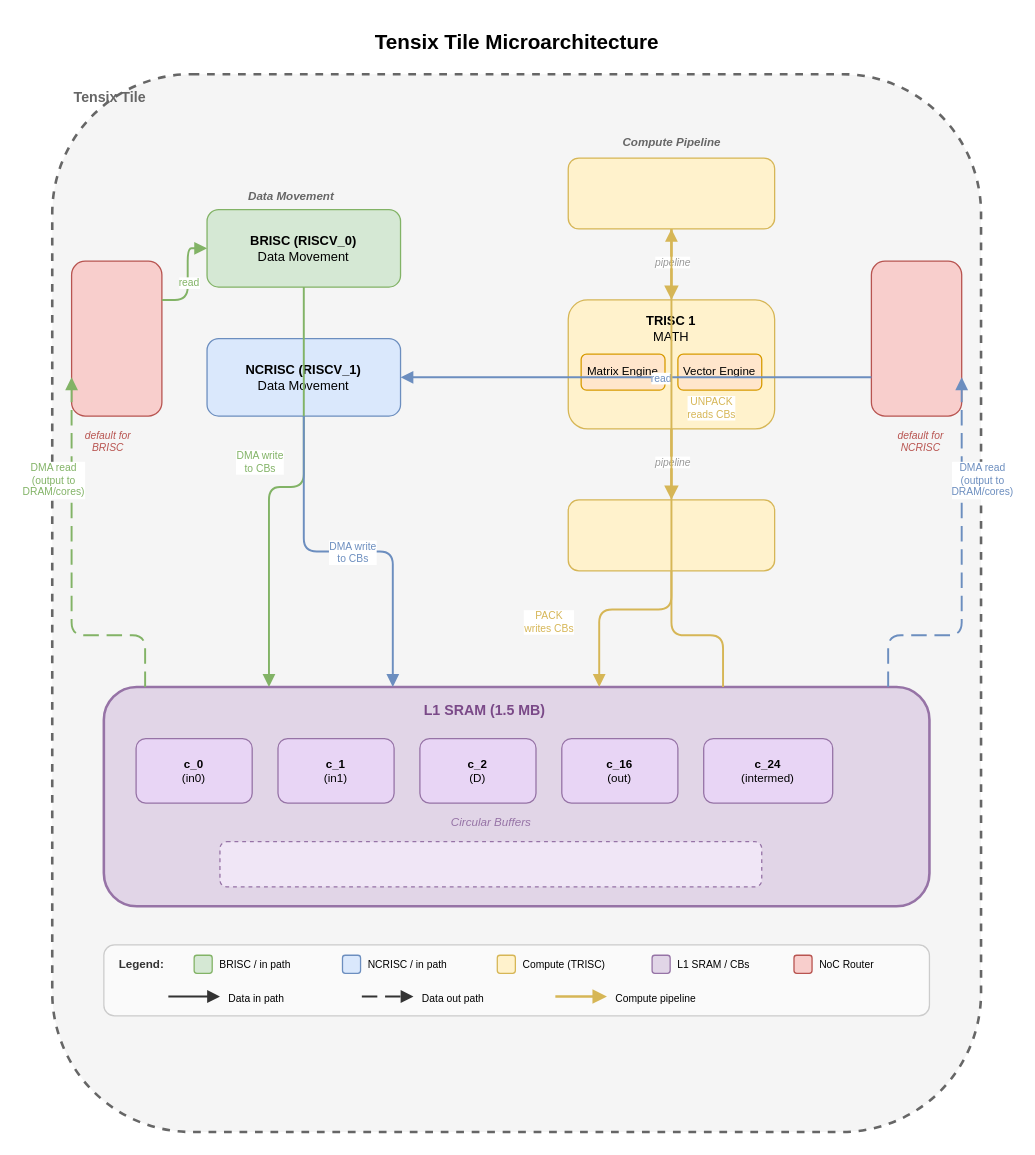
Image size: 1035x1155. Some labels were removed from this diagram. The box of each missing label's shape, as (x1, y1, x2, y2) in pixels:
Kernel binary + stack + free space: (219, 840, 762, 887)
NoC 0: (70, 260, 162, 416)
NoC 1: (870, 260, 962, 416)
TRISC 0 UNPACK: (567, 157, 775, 229)
TRISC 2 PACK: (567, 499, 775, 571)
